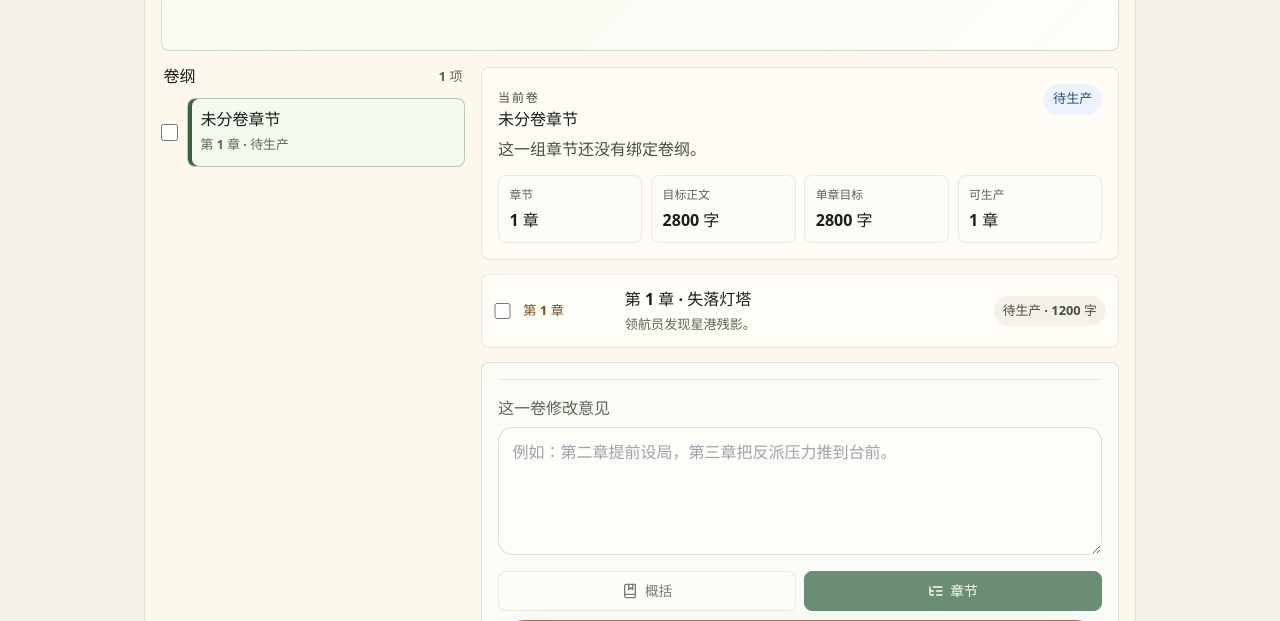
keeps project sections visible when batch action fails
(page scrolled)
Click the checkbox named "选择第 1 章 · 失落灯塔" at (503, 311), box [494, 303, 511, 319]
(page scrolled)
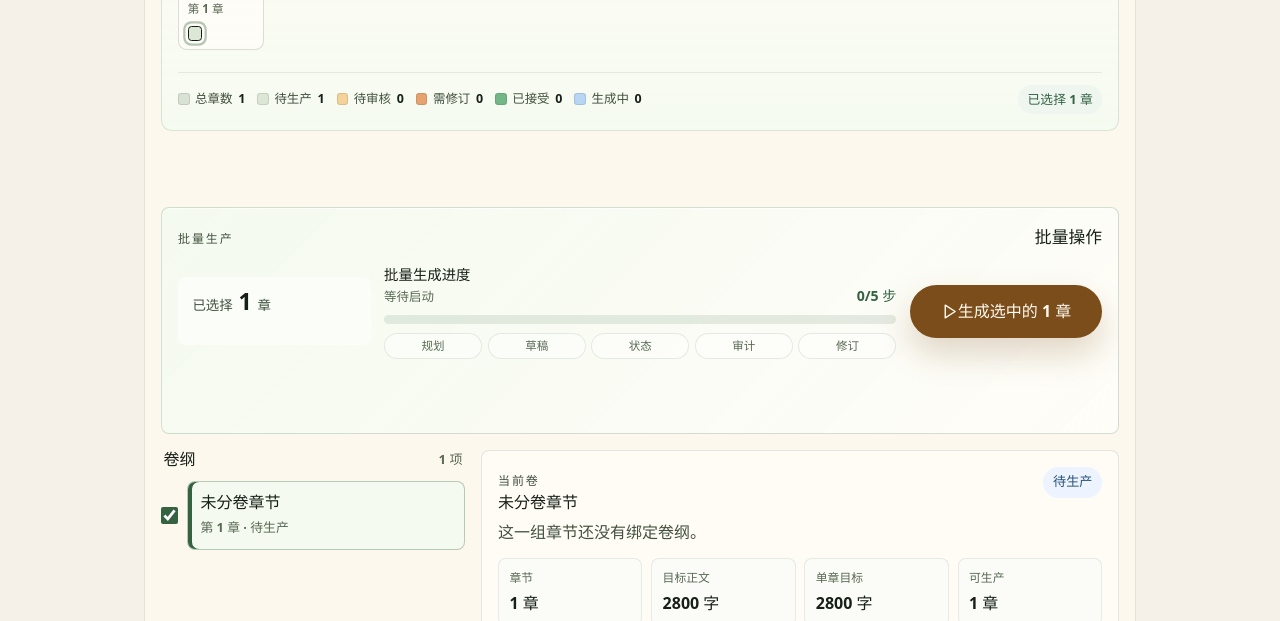
Click the button "生成选中的 1 章" at (1006, 311), box [910, 285, 1102, 338]
(page scrolled)
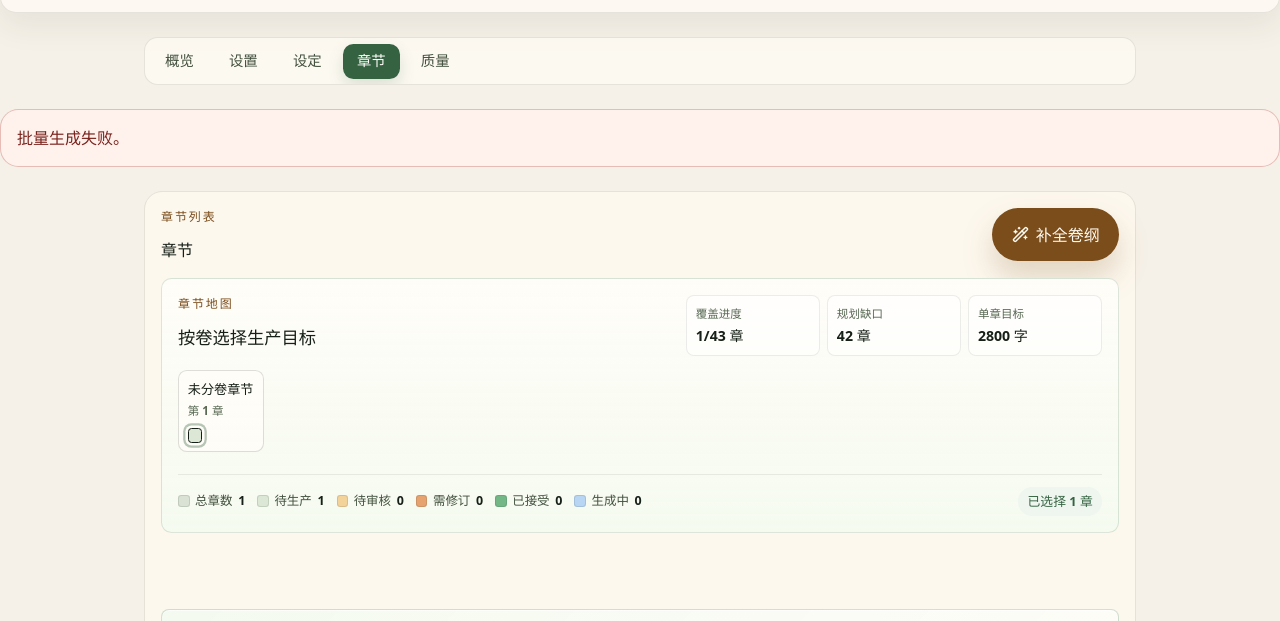
Expected: the heading "章节" is shown, [161, 239, 193, 261]
Expected: the message reads "批量生成失败。", [17, 127, 129, 149]
